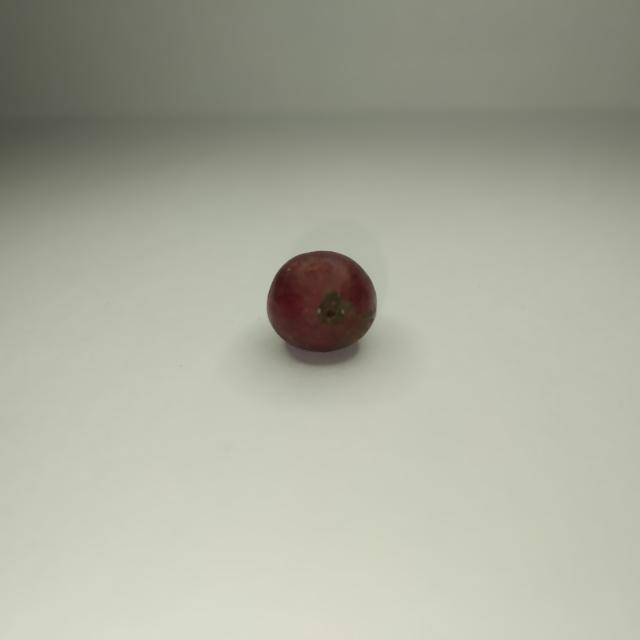Infectado: (268, 251, 375, 351)
